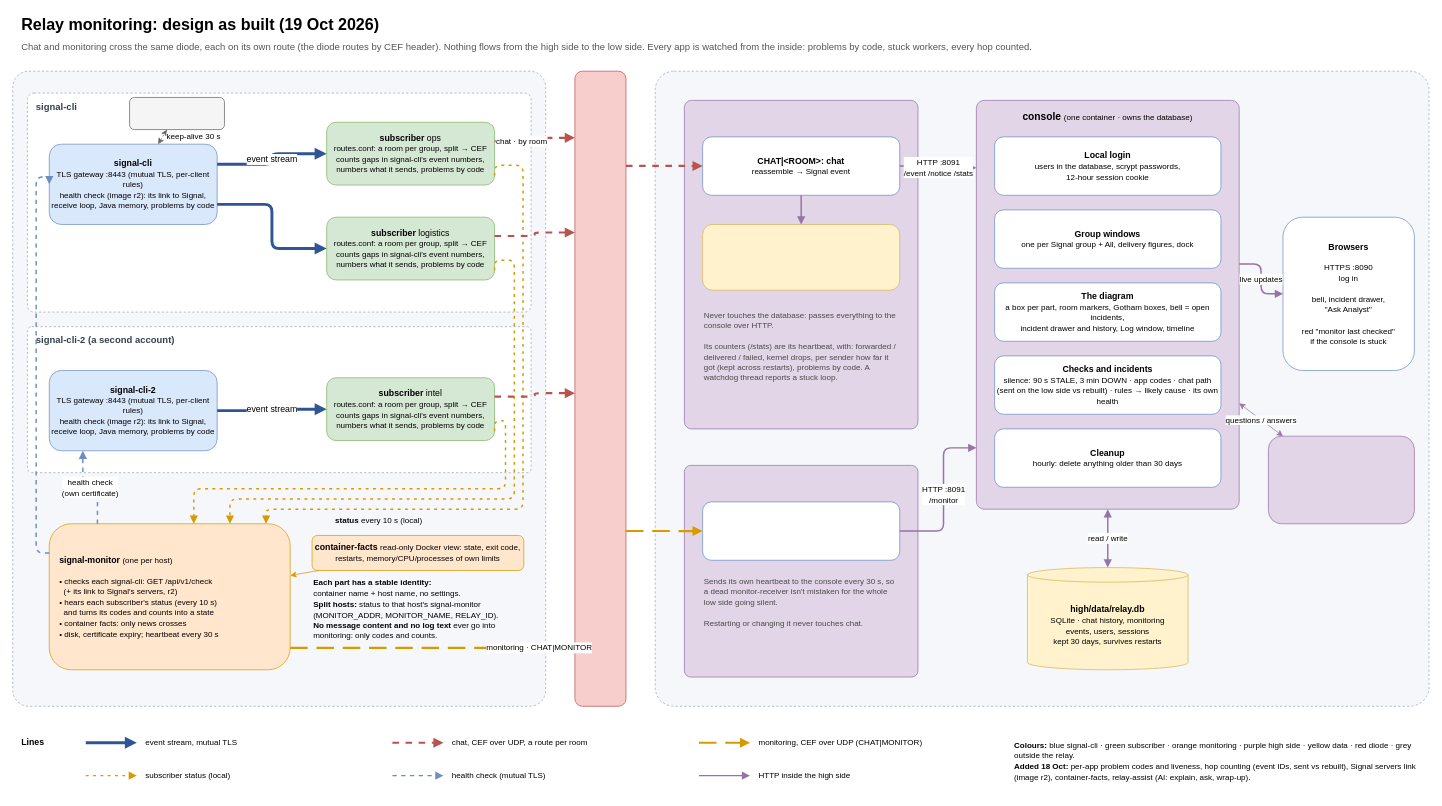
Some shapes in this 1442 by 806 pixel diagram are drawn without their labels. Here are the shapes that lost their labels. From the top down, the box of each, then its label:
(129, 97, 224, 130): Signal's servers chat.signal.org
(702, 224, 900, 290): Chat.record() → my_forward simple record → Gotham Chat per receiver (FORWARD_TO)
(684, 100, 918, 429): receivers (one per room)
(12, 70, 546, 706): LOW SIDE: signal-cli host (Docker Compose)
(574, 70, 626, 706): DATA DIODE one-way
(654, 70, 1429, 706): HIGH SIDE: Docker containers today (k8s later)
(1268, 435, 1414, 524): relay-assist AI model, read-only tools (token on :8091) explain · ask · wrap-up
(702, 501, 900, 560): CHAT|MONITOR: monitoring one datagram per message: check the header → pass on
(684, 465, 918, 677): monitor-receiver (own container)
